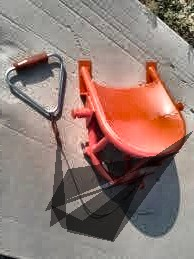chock: (70, 57, 186, 190)
